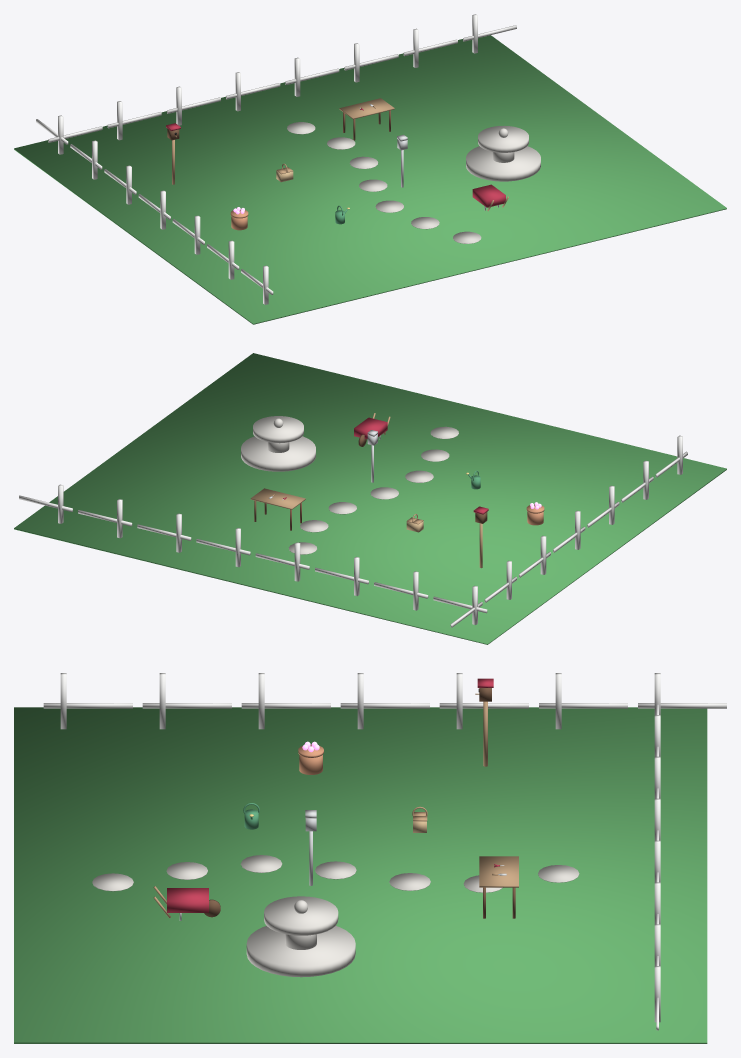
File: garden.glb
The picture shows the model from 3 angles, top to bottom: view 1: azimuth 30°, elevation 25°; view 2: azimuth 150°, elevation 25°; view 3: azimuth 270°, elevation 25°; orthographic projection. The views are drawn at different scales.
Visible parts, largest first — view 1: Garden_Diorama, Stone_Fountain, Garden_Pergola_Table, Wheelbarrow; view 2: Garden_Diorama, Stone_Fountain, Garden_Pergola_Table, Wheelbarrow; view 3: Garden_Diorama, Stone_Fountain, Garden_Pergola_Table, Wheelbarrow, Flower_Pot, Birdhouse.
Part boxes in pixels (x1,y1,x2,y2): Garden_Diorama: (14, 14, 726, 324); Stone_Fountain: (466, 125, 540, 181); Garden_Pergola_Table: (339, 98, 394, 140); Wheelbarrow: (472, 184, 508, 211); Garden_Diorama: (14, 353, 726, 644); Stone_Fountain: (241, 416, 315, 471); Garden_Pergola_Table: (250, 488, 305, 530); Wheelbarrow: (354, 413, 390, 446); Garden_Diorama: (14, 673, 726, 1043); Stone_Fountain: (246, 896, 355, 977); Garden_Pergola_Table: (479, 856, 518, 918); Wheelbarrow: (153, 886, 220, 920); Flower_Pot: (298, 741, 323, 774); Birdhouse: (475, 678, 493, 766).
Size of the model in its own units: 16.4 by 1.91 by 14.4.
